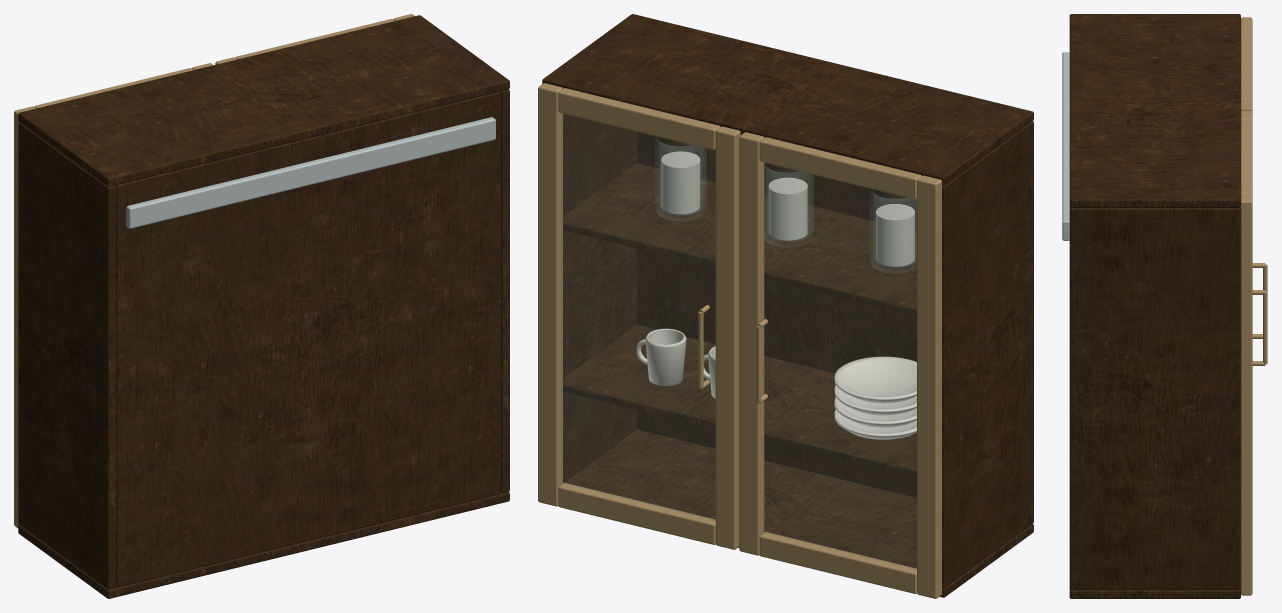
File: cabinet-wall-glass.glb
3 renders of one model, left to right at view 1: azimuth 30°, elevation 25°; view 2: azimuth 150°, elevation 25°; view 3: azimuth 270°, elevation 25°, orthographic. The views are drawn at different scales.
Parts seen in each view (by area): view 1: oak_surfaces, steel_surfaces, bronze_surfaces; view 2: oak_surfaces, glass_surfaces, bronze_surfaces, ceramic_surfaces, cream_surfaces; view 3: oak_surfaces, bronze_surfaces, steel_surfaces.
Boxes of the visible parts, <box> form: oak_surfaces: <box>18,15,509,598</box>; steel_surfaces: <box>126,117,495,228</box>; bronze_surfaces: <box>14,14,414,528</box>; oak_surfaces: <box>542,14,1033,597</box>; glass_surfaces: <box>562,114,916,569</box>; bronze_surfaces: <box>538,83,941,598</box>; ceramic_surfaces: <box>636,328,916,439</box>; cream_surfaces: <box>661,151,914,266</box>; oak_surfaces: <box>1069,14,1240,598</box>; bronze_surfaces: <box>1240,17,1267,595</box>; steel_surfaces: <box>1062,52,1069,240</box>.
Bounding box in the file's own units: 0.9 × 0.9 × 0.4195.
Materials: 6 (1 with a texture image).
